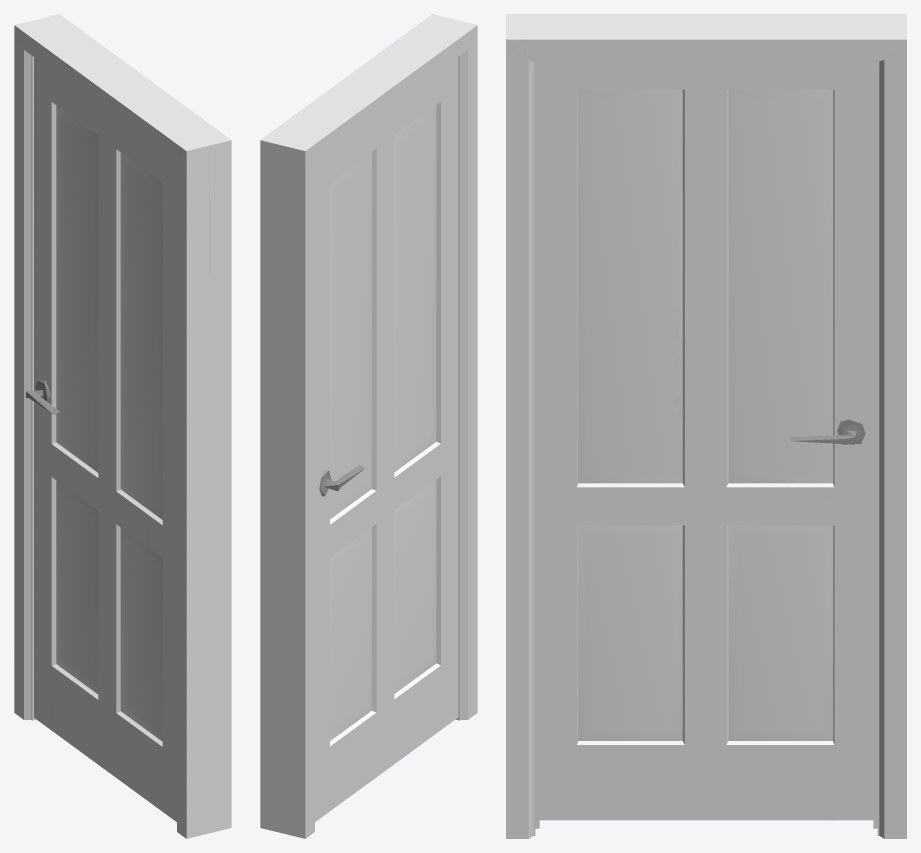
The model's file is Door0016.obj.
3 views of the same model, side by side, from view 1: azimuth 30°, elevation 25°; view 2: azimuth 150°, elevation 25°; view 3: azimuth 270°, elevation 25° (orthographic). The views are drawn at different scales.
Size of the model in its own units: 0.18 by 2.12 by 0.964.
1 material, 1 textured.
